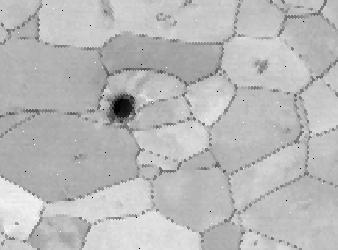good_void: (107, 91, 142, 123), (152, 9, 181, 31), (95, 0, 117, 23), (250, 58, 269, 74), (67, 150, 86, 163), (177, 0, 199, 10), (194, 163, 212, 172), (283, 125, 291, 136), (251, 238, 259, 248), (13, 220, 20, 227)
